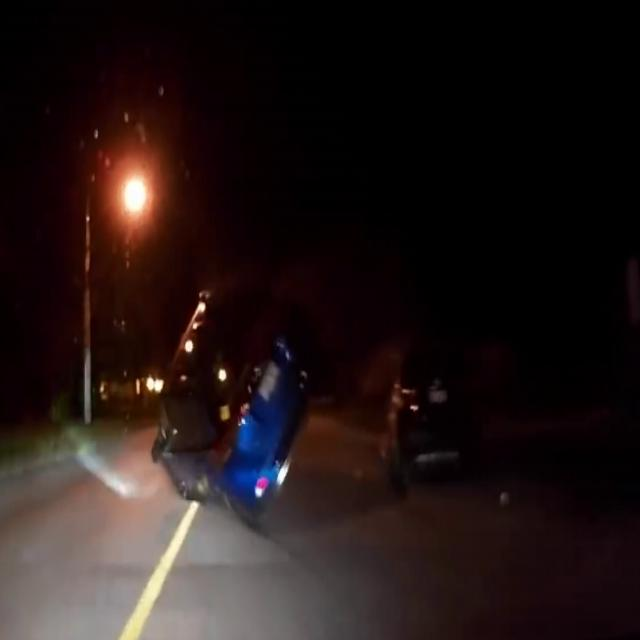accident: (154, 252, 343, 524)
